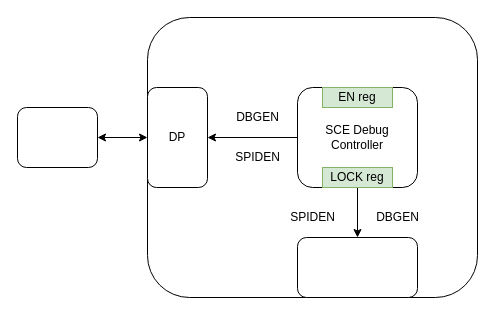
Some shapes in this 495 by 315 pixel diagram are drawn without their labels. The shapes that lost their labels are listed below. From the top down, each one's box as (x1, y1, x2, y2) in pixels, then its label:
(16, 106, 98, 168): debugger
(296, 236, 418, 298): CPU Core
